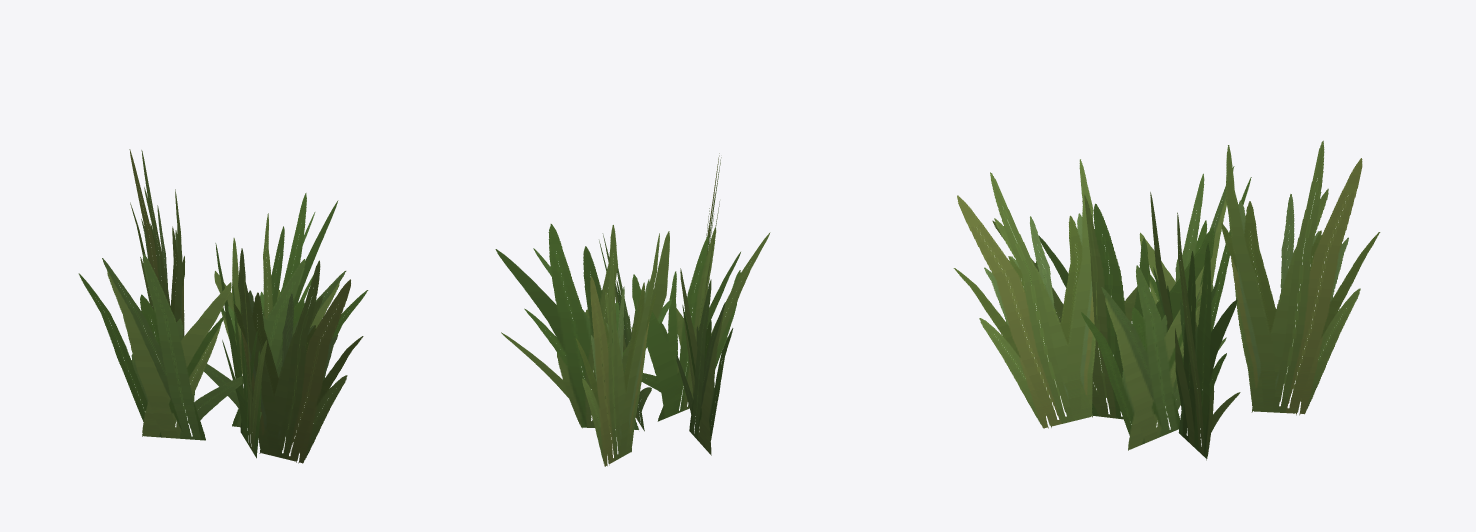
The model's file is forest_grass_002_c_LOD1.gltf.
The picture shows the model from 3 angles, left to right: view 1: azimuth 30°, elevation 25°; view 2: azimuth 150°, elevation 25°; view 3: azimuth 270°, elevation 25°; orthographic projection. The views are drawn at different scales.
Parts seen in each view (by area): view 1: forest_grass_002_c_LOD1; view 2: forest_grass_002_c_LOD1; view 3: forest_grass_002_c_LOD1.
Boxes of the visible parts, x1=… form: forest_grass_002_c_LOD1: x1=78, y1=149, x2=368, y2=463; forest_grass_002_c_LOD1: x1=495, y1=153, x2=770, y2=466; forest_grass_002_c_LOD1: x1=953, y1=140, x2=1380, y2=460.
Size of the model in its own units: 0.6668 by 0.702 by 0.9801.
Materials: 1 (1 with a texture image).
